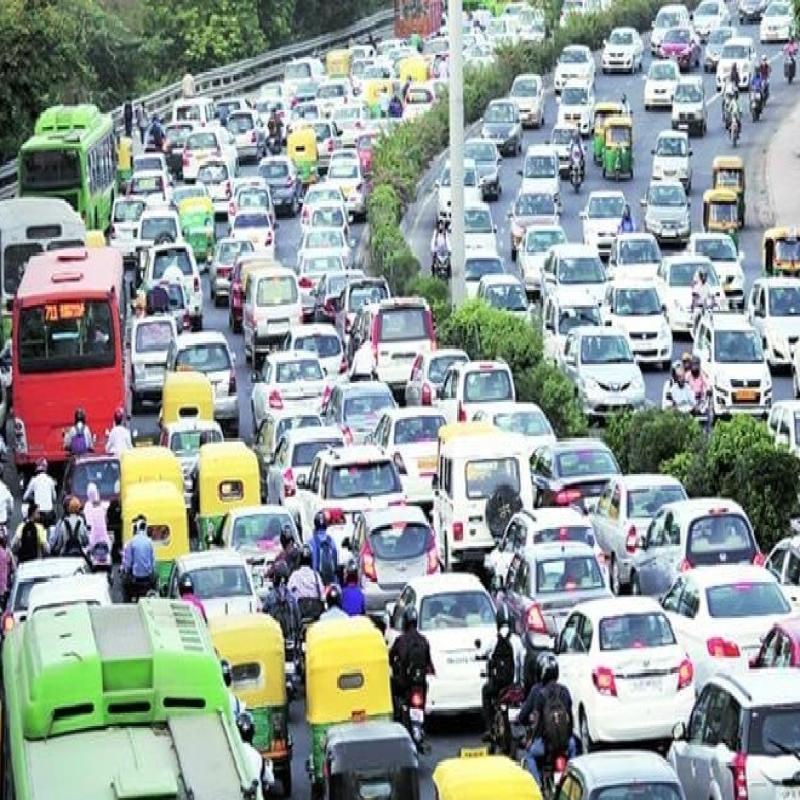auto: (203, 616, 300, 776), (300, 622, 411, 741), (118, 468, 186, 584), (197, 441, 261, 535), (158, 358, 216, 430), (707, 150, 750, 198), (286, 123, 318, 182)
car: (571, 578, 681, 738), (686, 550, 788, 674), (642, 491, 748, 596), (352, 502, 430, 606), (495, 546, 601, 621), (699, 291, 764, 412), (561, 325, 645, 417), (527, 447, 628, 505), (252, 361, 336, 429), (609, 272, 673, 360), (504, 182, 559, 257), (524, 131, 566, 195), (484, 97, 522, 156)
